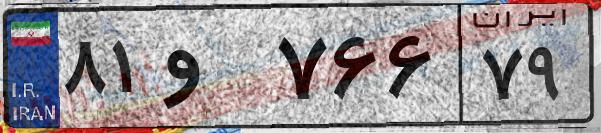1: (110, 28, 158, 98)
6: (385, 28, 445, 110), (330, 28, 385, 110)
7: (270, 28, 330, 110), (475, 38, 525, 113)
8: (57, 26, 110, 100)
9: (525, 38, 570, 115)
و: (158, 20, 270, 120)
